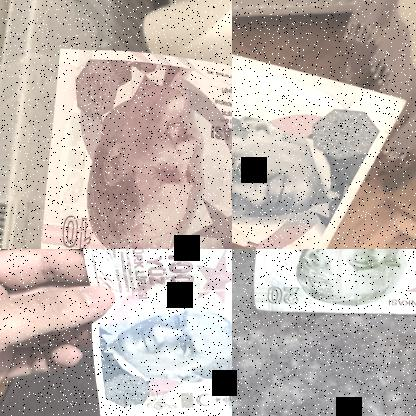5 TL: (39, 48, 231, 248)
